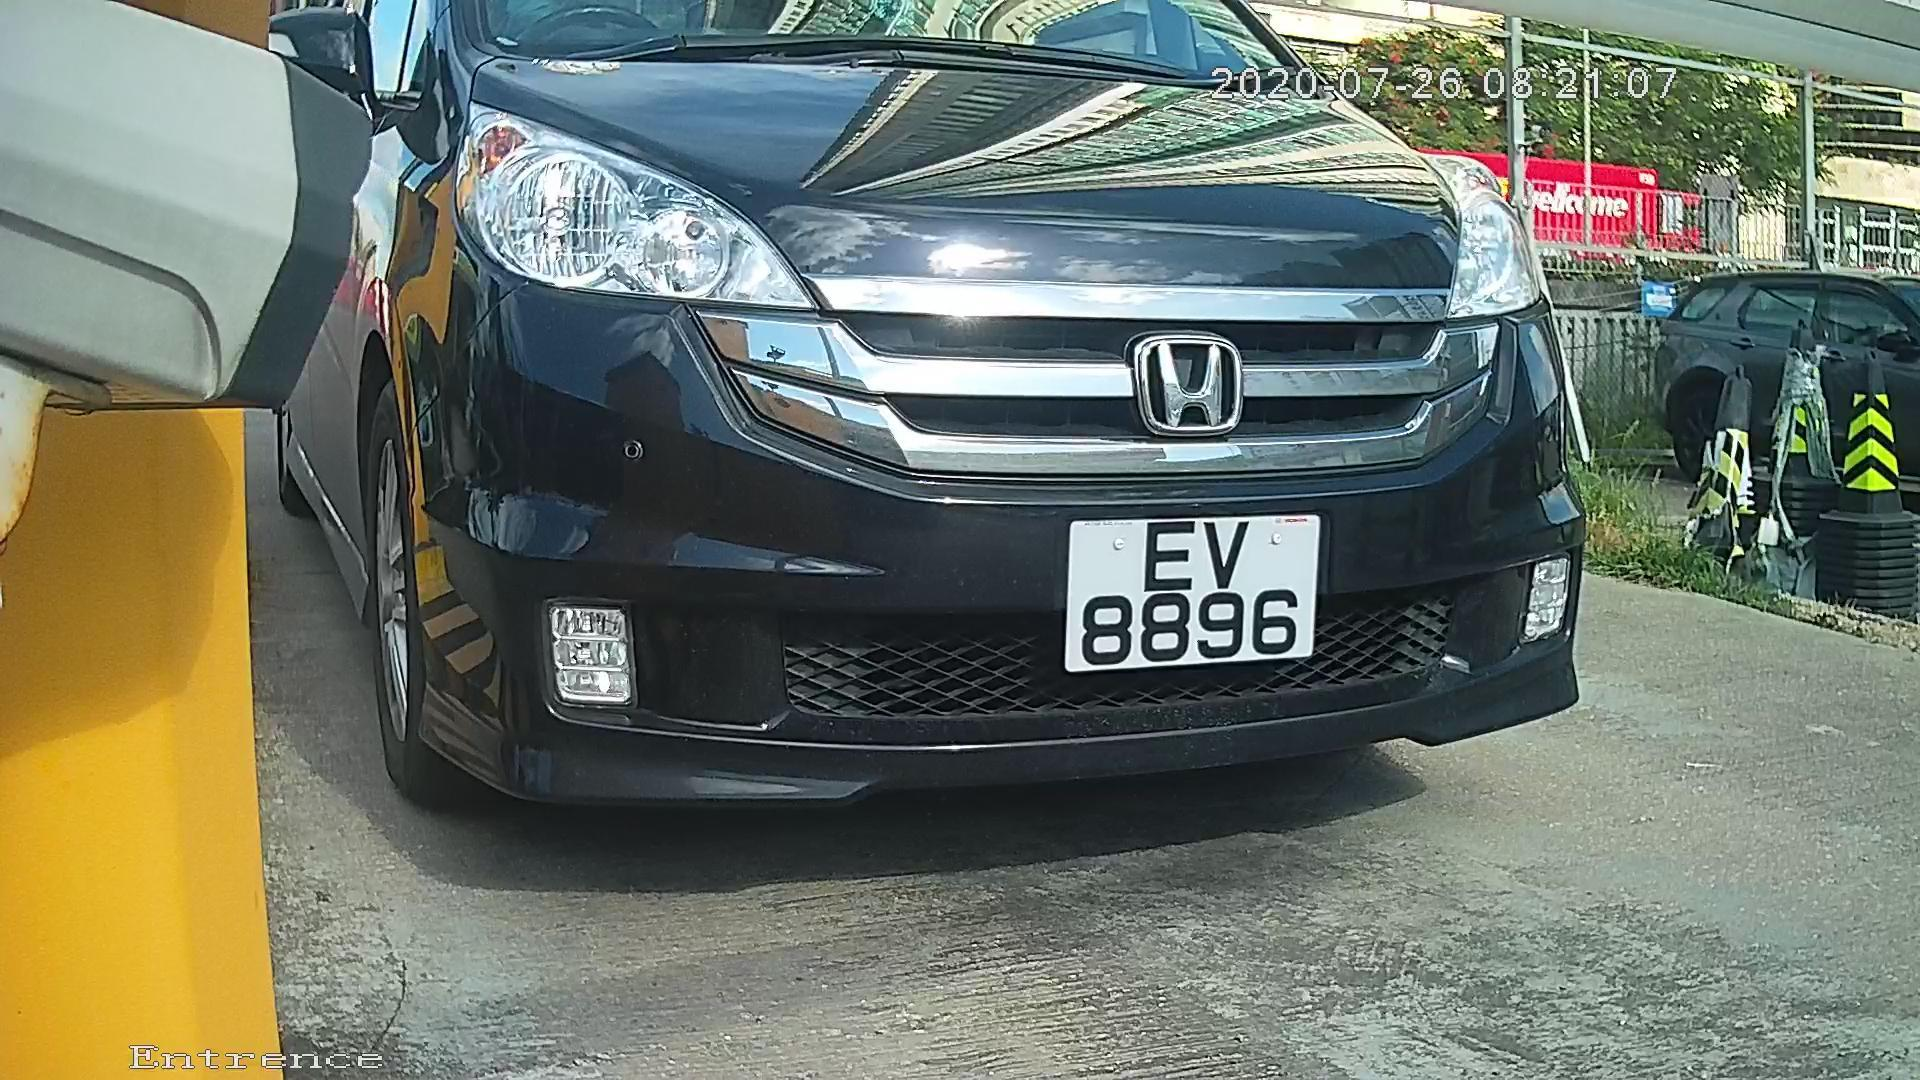privatecar: (215, 11, 1655, 873)
